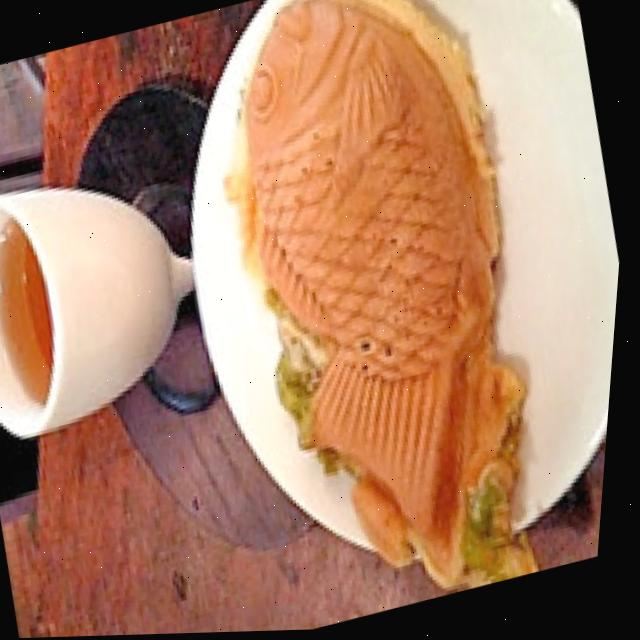熟制海鲜: (161, 0, 592, 634)
